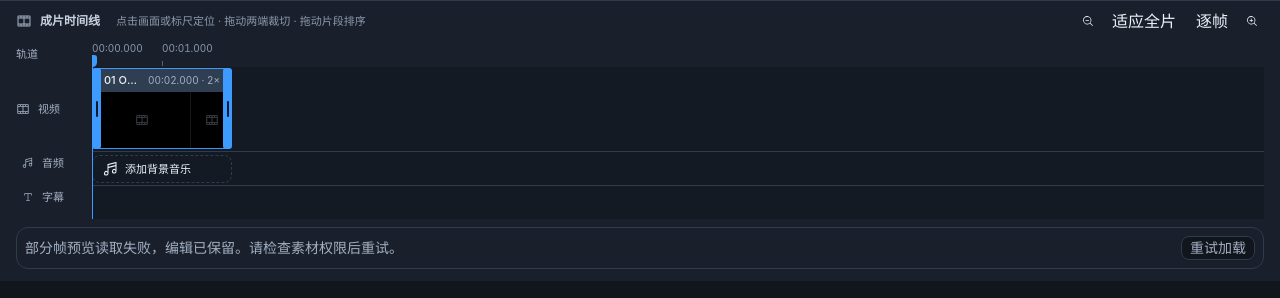
Scenario: composition trim handles › preserves the editor after frame loading fails and retries explicitly
Expected: the text "部分帧预览读取失败，编辑已保留。请检查素材权限后重试。" is shown, [25,239,403,256]
Click the button "重试加载" at (1218, 248), box [1181,236,1255,260]
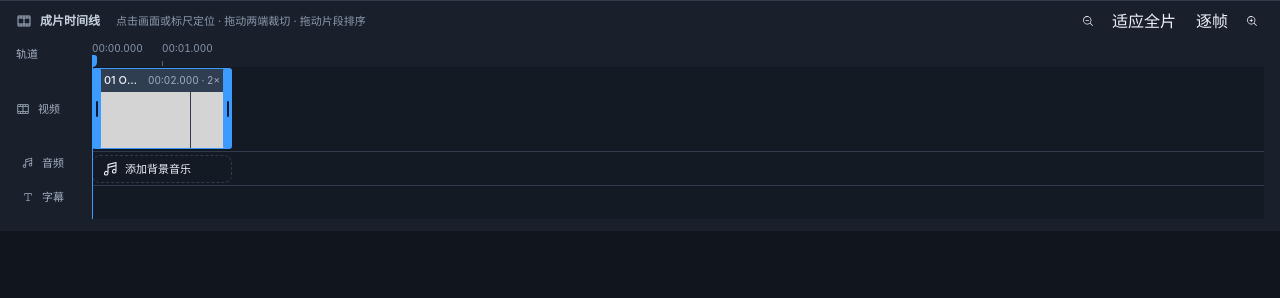
Now the message "部分帧预览读取失败，编辑已保留。请检查素材权限后重试。 重试加载" is gone
